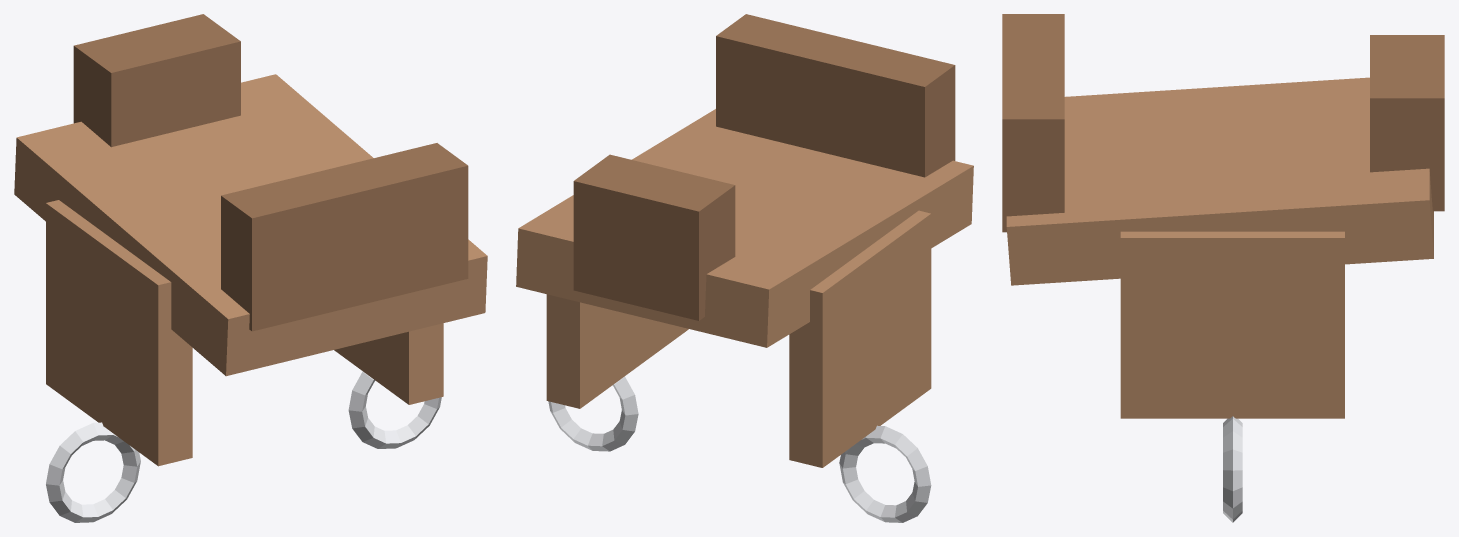
Rendered from saddle_held.gltf.
3 renders of one model, left to right at view 1: azimuth 30°, elevation 25°; view 2: azimuth 150°, elevation 25°; view 3: azimuth 270°, elevation 25°, orthographic. The views are drawn at different scales.
Parts seen in each view (by area): view 1: animals_saddle_held; view 2: animals_saddle_held; view 3: animals_saddle_held.
Part boxes in pixels (<box>): animals_saddle_held: <box>14,14,487,522</box>; animals_saddle_held: <box>516,14,973,522</box>; animals_saddle_held: <box>1002,14,1444,522</box>.
Size of the model in its own units: 0.184 by 0.167 by 0.1775.
